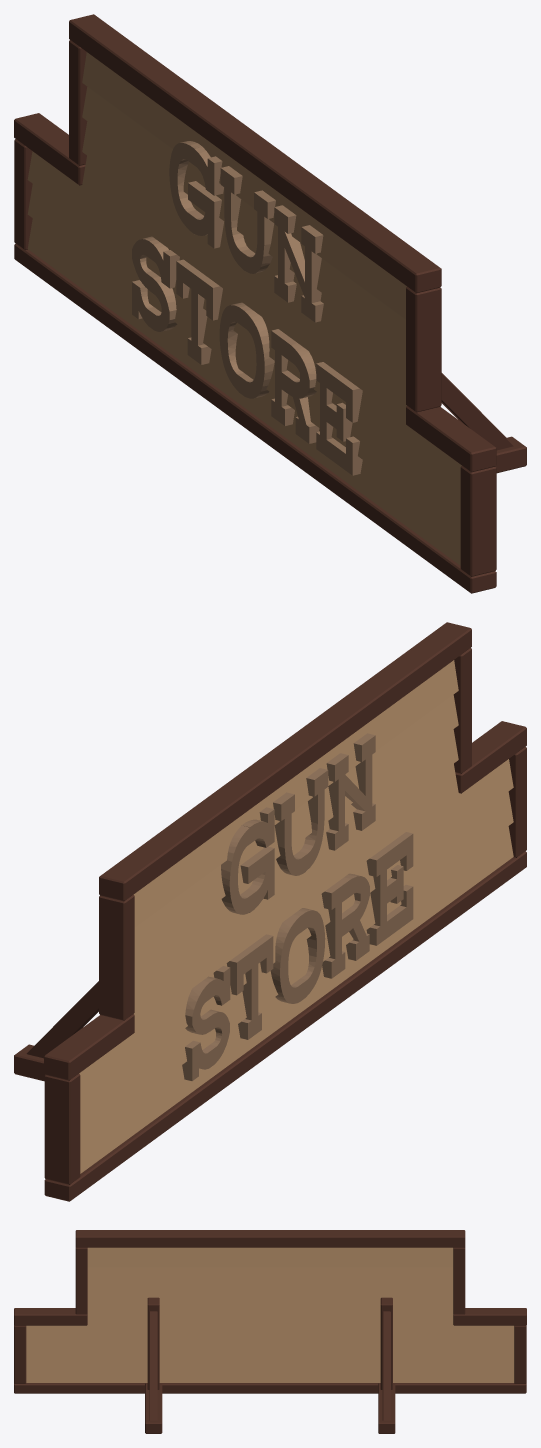
The model's file is gun-sign-c.glb.
3 views of the same model, one above another, from view 1: azimuth 30°, elevation 25°; view 2: azimuth 150°, elevation 25°; view 3: azimuth 270°, elevation 25° (orthographic). The views are drawn at different scales.
Visible parts, largest first — view 1: Gun Sign C (×3); view 2: Gun Sign C (×3); view 3: Gun Sign C (×2).
Part boxes in pixels (x1,y1,x2,y2): Gun Sign C (×3): (14, 14, 526, 593); Gun Sign C (×3): (14, 622, 526, 1201); Gun Sign C (×2): (14, 1230, 526, 1433).
Bounding box in the file's own units: 1.46 × 2.23 × 6.6.
